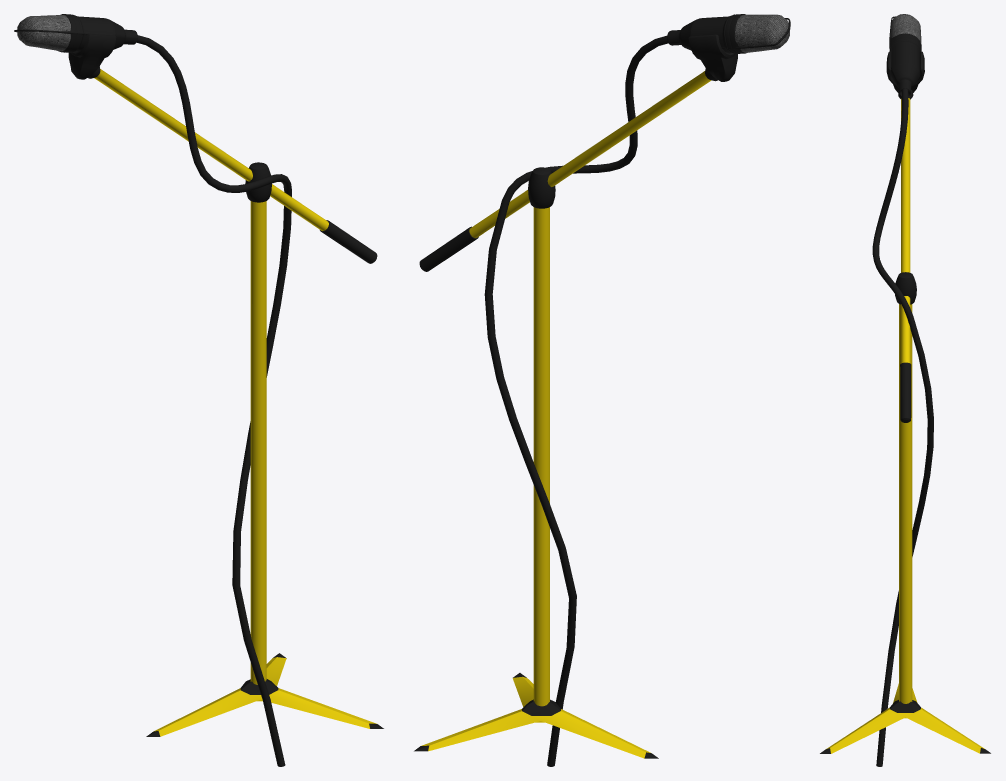
The model's file is Mikrophone.fbx.
The picture shows the model from 3 angles, left to right: view 1: azimuth 30°, elevation 25°; view 2: azimuth 150°, elevation 25°; view 3: azimuth 270°, elevation 25°; orthographic projection. The views are drawn at different scales.
Parts seen in each view (by area): view 1: Cylinder.106, BézierCurve, Cylinder.153, pCylinder1, pCylinder5; view 2: Cylinder.106, BézierCurve, Cylinder.153, pCylinder1, pCylinder5; view 3: Cylinder.106, BézierCurve, Cylinder.153, pCylinder1, pCylinder5.
Part boxes in pixels (x1=…): Cylinder.106: x1=146, y1=162, x2=383, y2=736; BézierCurve: x1=136, y1=35, x2=291, y2=766; Cylinder.153: x1=68, y1=33, x2=377, y2=263; pCylinder1: x1=14, y1=14, x2=137, y2=52; pCylinder5: x1=17, y1=15, x2=70, y2=51; Cylinder.106: x1=414, y1=167, x2=658, y2=758; BézierCurve: x1=484, y1=35, x2=667, y2=766; Cylinder.153: x1=419, y1=34, x2=737, y2=271; pCylinder1: x1=667, y1=14, x2=790, y2=53; pCylinder5: x1=735, y1=14, x2=790, y2=52; Cylinder.106: x1=820, y1=272, x2=990, y2=753; BézierCurve: x1=872, y1=88, x2=933, y2=766; Cylinder.153: x1=886, y1=51, x2=924, y2=422; pCylinder1: x1=889, y1=16, x2=921, y2=95; pCylinder5: x1=890, y1=14, x2=921, y2=44.
Bounding box in the file's own units: 105 × 223 × 53.02.
3 materials, 1 textured.
